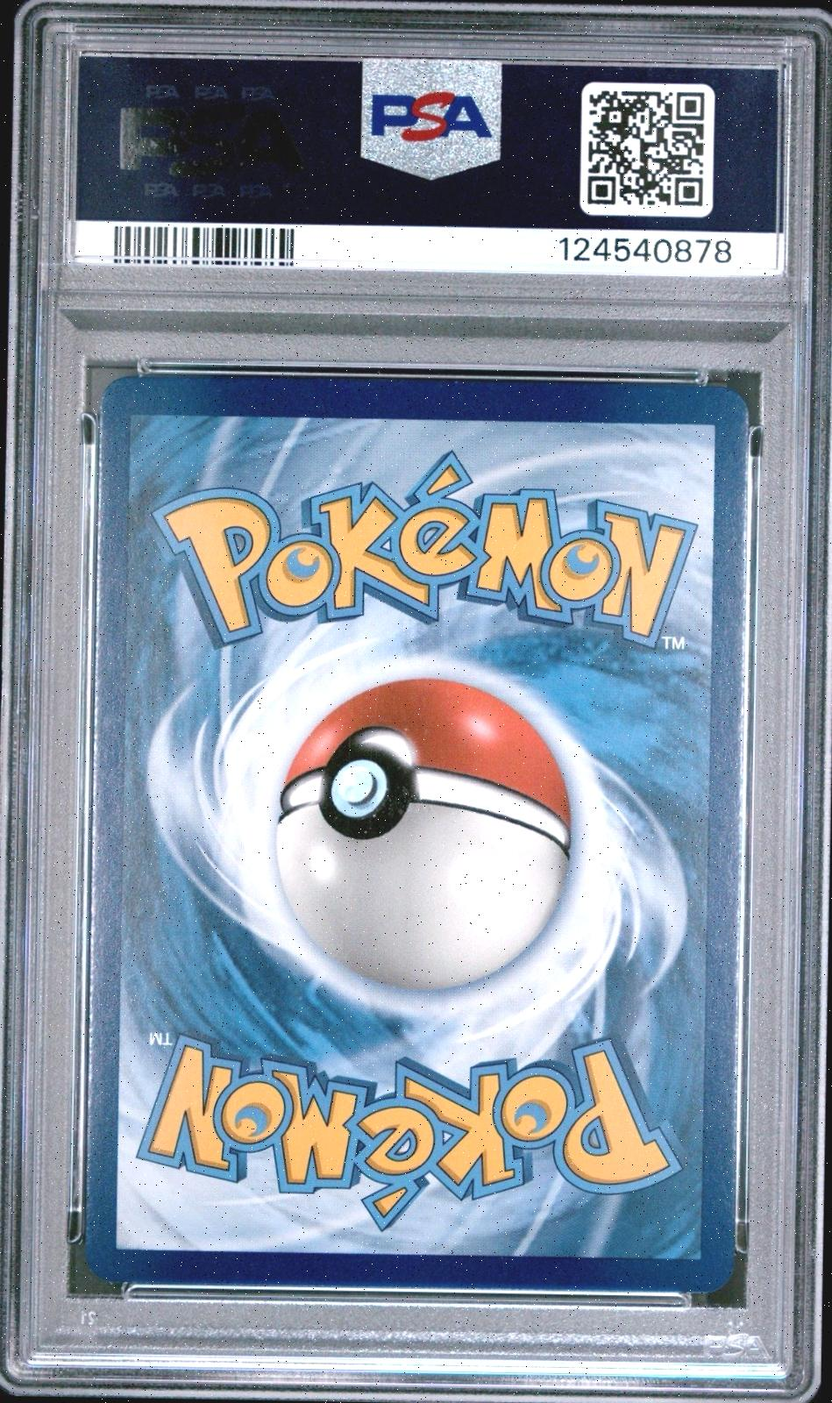card-2UtV: (83, 374, 749, 1295)
